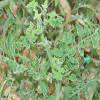Tomato leaf yellow virus: (29, 36, 41, 43), (33, 28, 43, 35), (50, 17, 55, 30), (53, 64, 62, 71), (57, 72, 63, 81)
